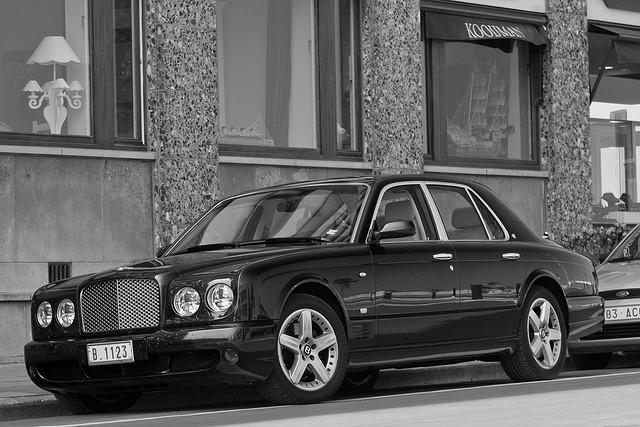car: (24, 180, 605, 398)
